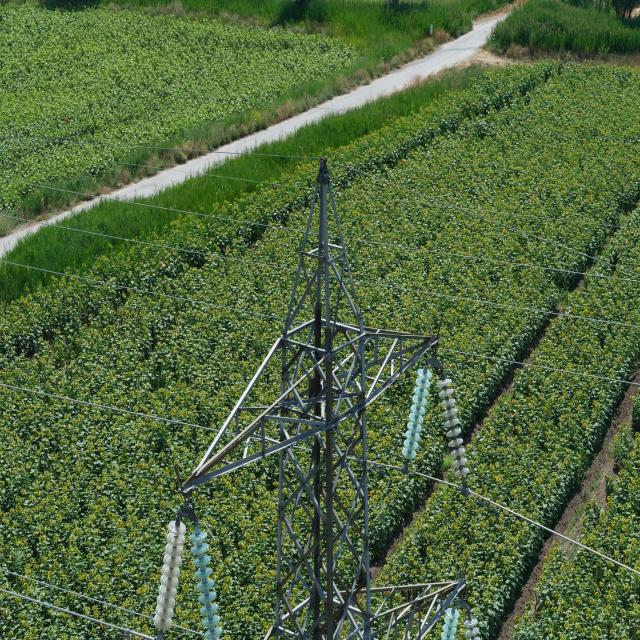direk: (272, 169, 373, 640)
